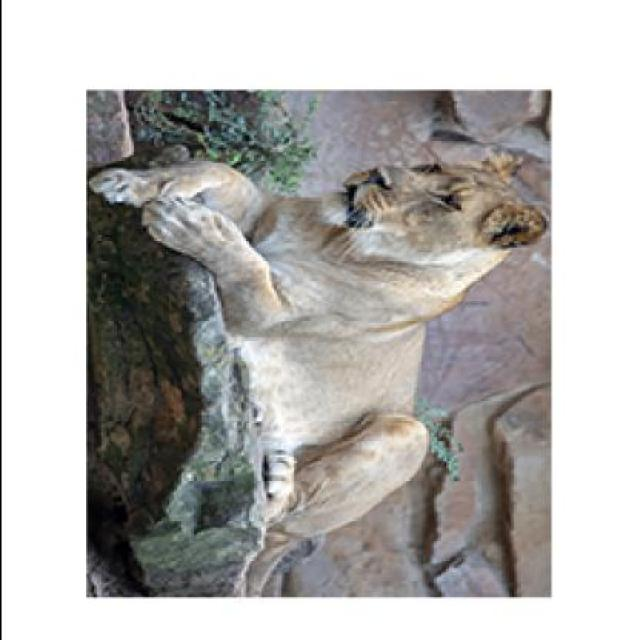Lion: (32, 143, 537, 602)
